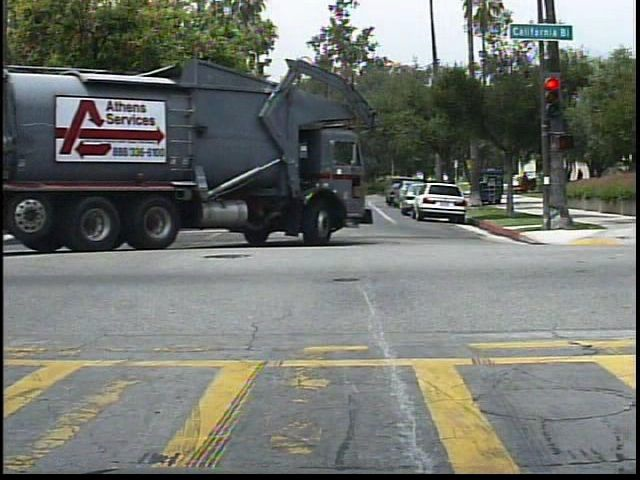person: (572, 164, 591, 194)
